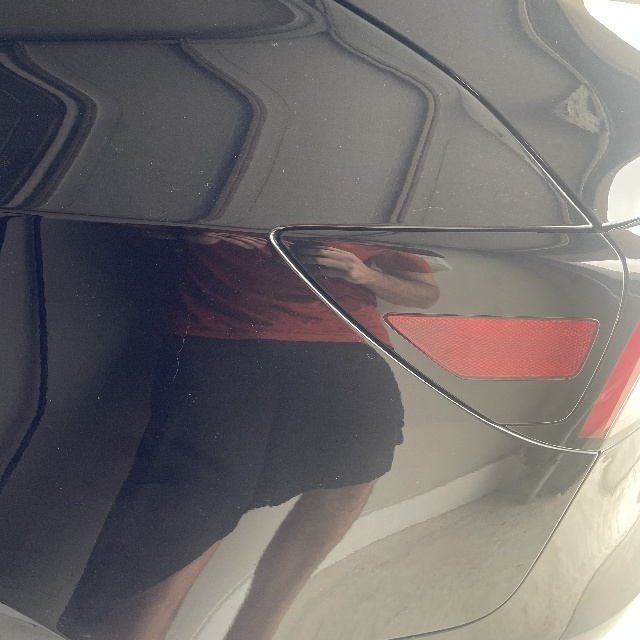reflector: (385, 314, 601, 380)
